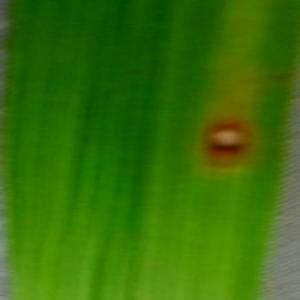1 RiceBlast: (175, 83, 258, 178)
